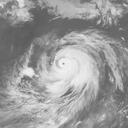cyclone: (22, 31, 110, 108)
